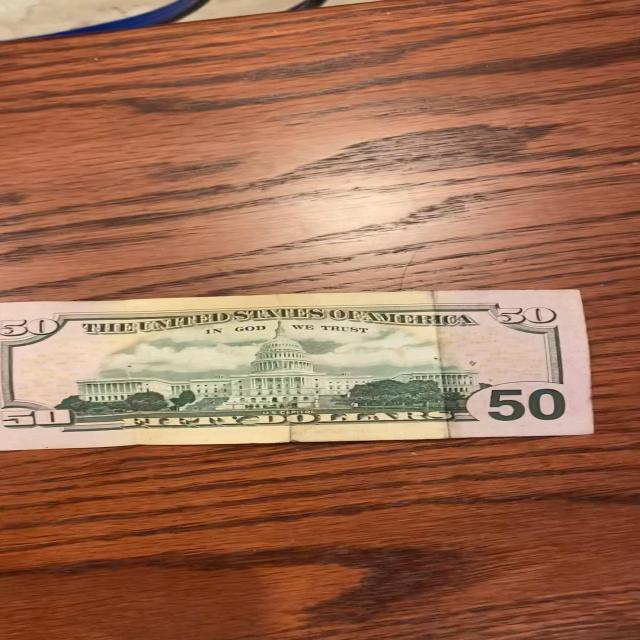50-Back: (0, 289, 601, 451)
